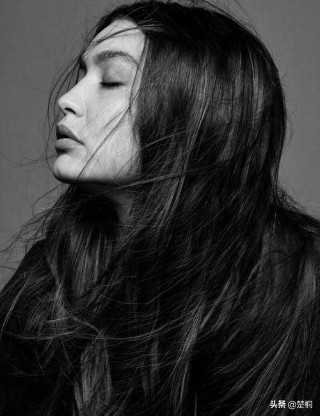闭眼: (96, 66, 131, 91)
